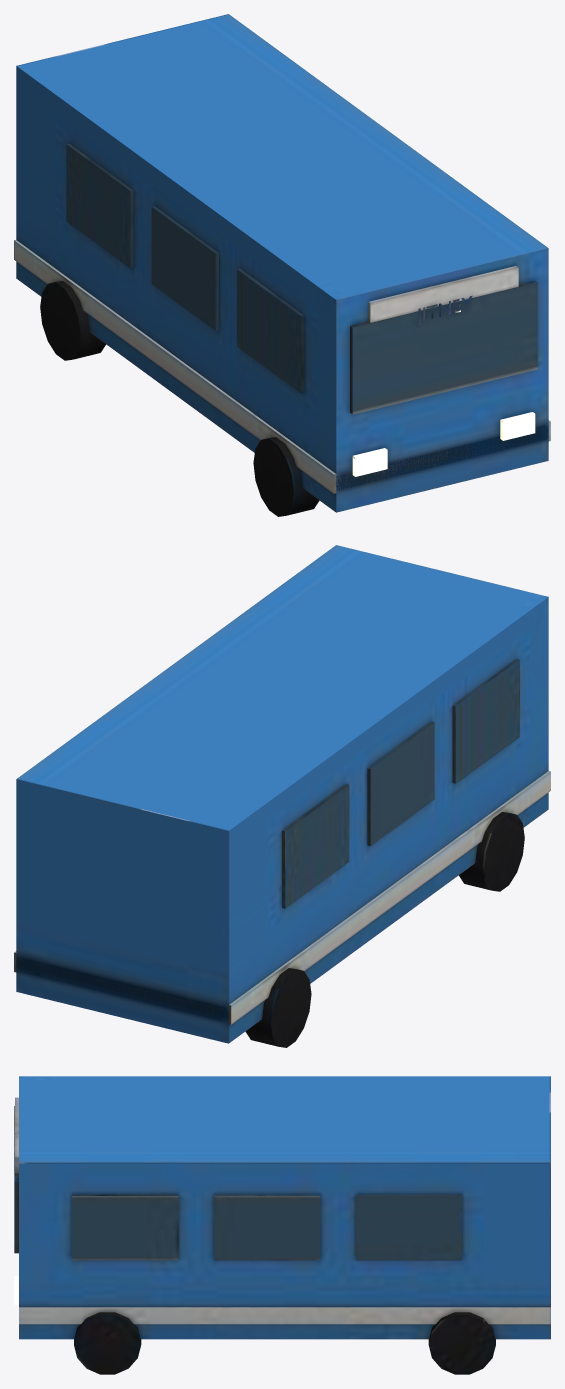
Rendered from jitney.glb.
The picture shows the model from 3 angles, top to bottom: view 1: azimuth 30°, elevation 25°; view 2: azimuth 150°, elevation 25°; view 3: azimuth 270°, elevation 25°; orthographic projection. The views are drawn at different scales.
Parts seen in each view (by area): view 1: jitney; view 2: jitney; view 3: jitney.
Part boxes in pixels (<box>): jitney: <box>14,14,550,516</box>; jitney: <box>14,545,550,1047</box>; jitney: <box>14,1076,550,1374</box>.
Bounding box in the file's own units: 2.5 × 2.59 × 6.06.
1 material, 1 textured.
